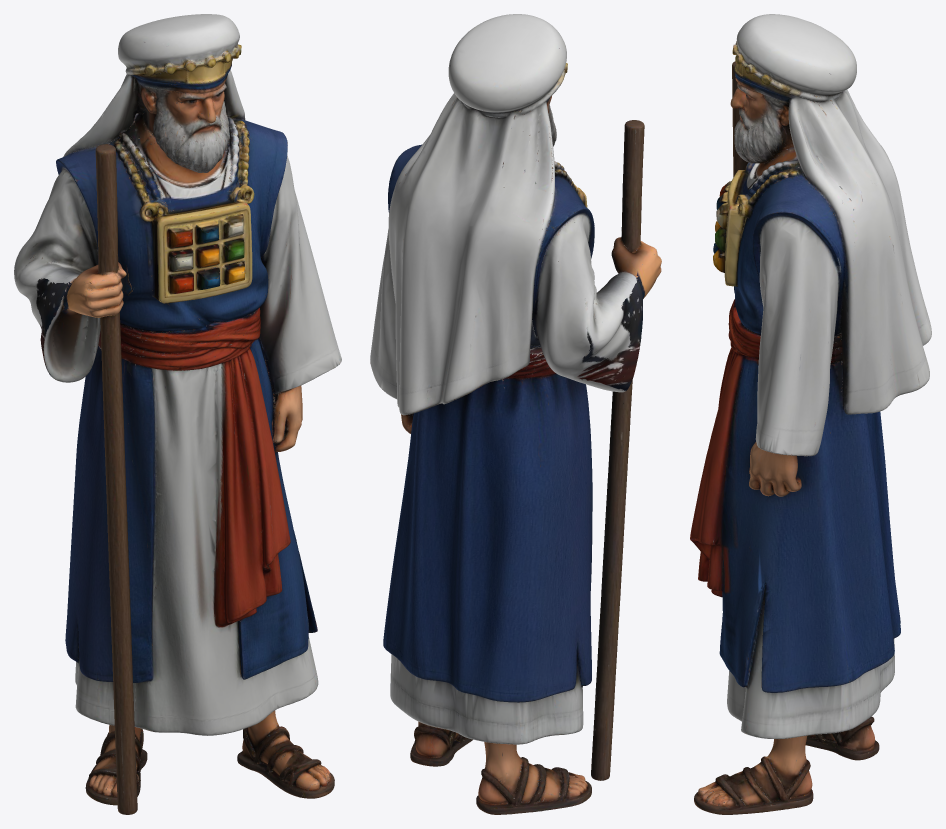
File: Meshy_AI_High_Priest_of_Israel_0319014538_texture.glb
3 renders of one model, left to right at view 1: azimuth 30°, elevation 25°; view 2: azimuth 150°, elevation 25°; view 3: azimuth 270°, elevation 25°, orthographic. The views are drawn at different scales.
Size of the model in its own units: 0.776 by 2 by 0.5943.
1 material, 1 textured.
